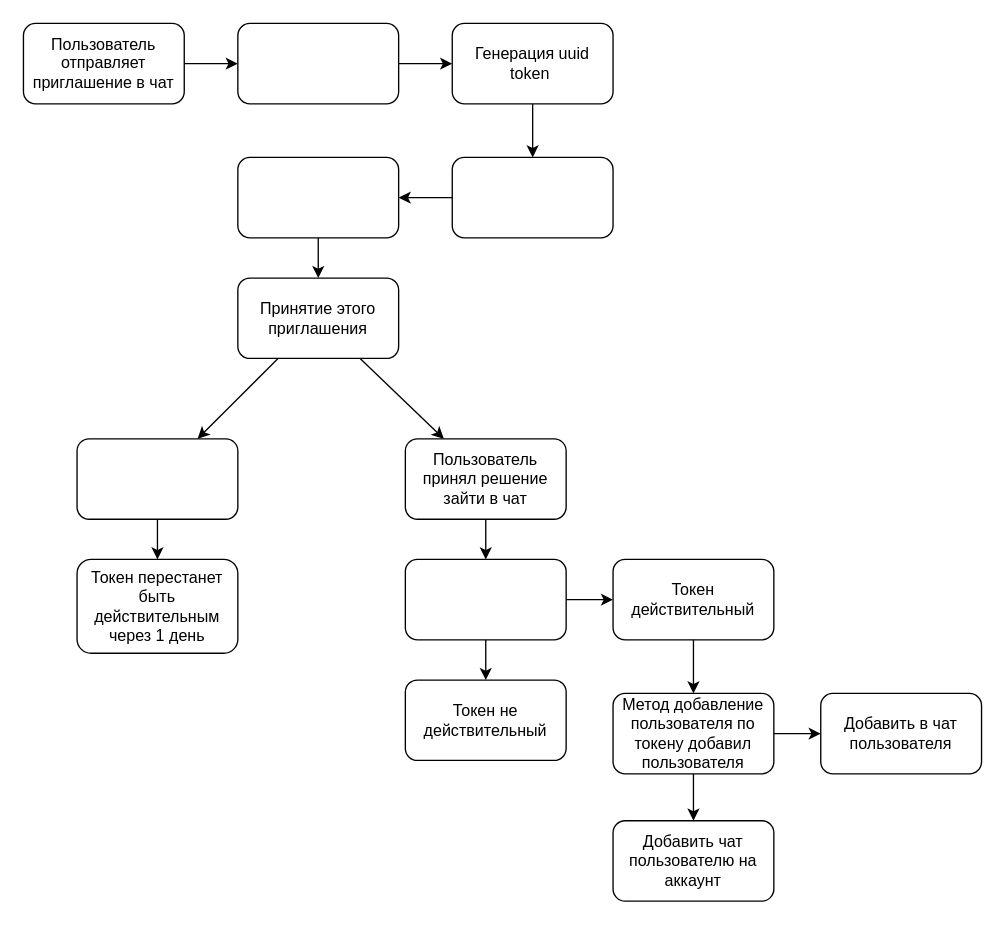
This 1005x925 diagram has some shape labels left out. The box of each missing label's shape, as (x1, y1, x2, y2) in pixels:
Валидация данных: (237, 22, 399, 104)
Отправка пользователю приглашения: (237, 156, 399, 238)
Пользователь проигнорировал приглашение: (76, 438, 238, 519)
Сохранение token в redisDB: (451, 156, 613, 238)
Сравнение с существующим токеном в redisDB: (404, 558, 566, 640)
